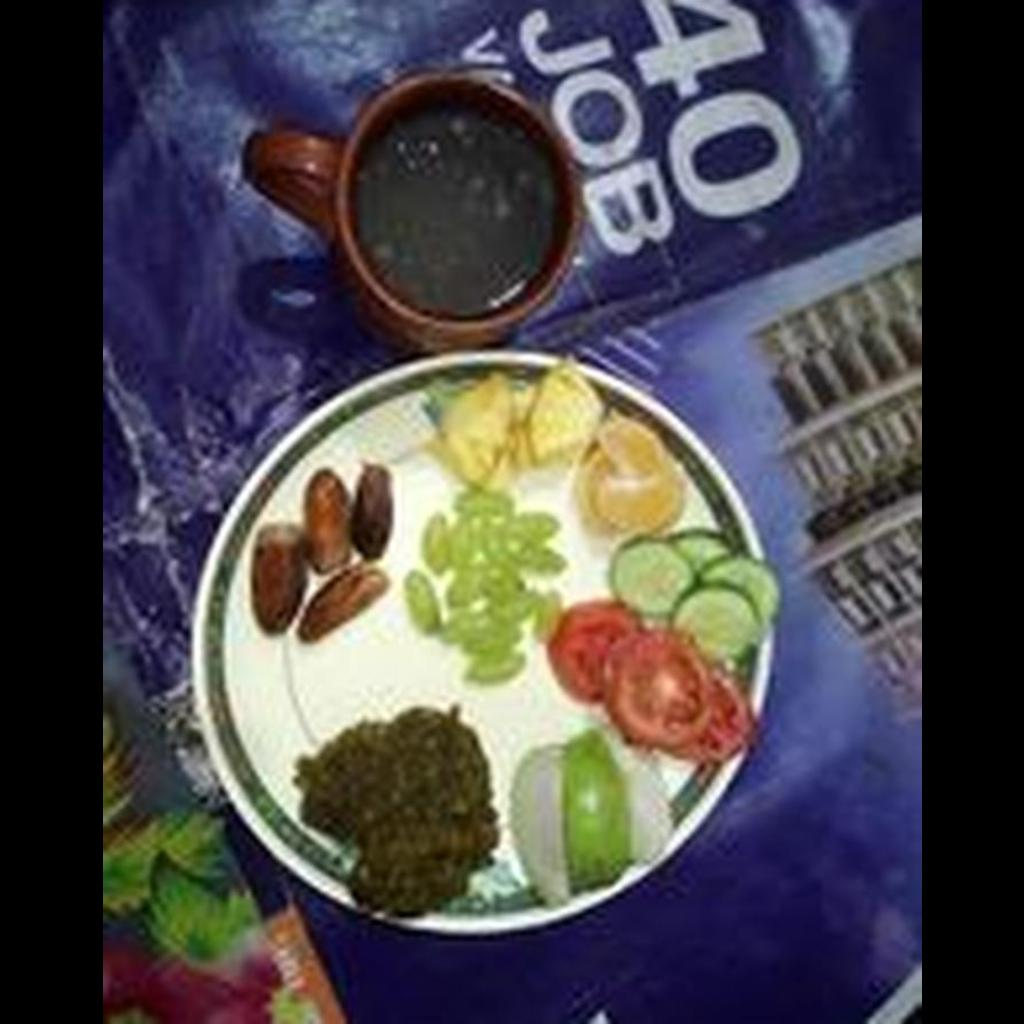chola: (294, 709, 492, 921)
cucumber: (609, 531, 778, 655)
dates: (252, 464, 394, 635)
grapes: (398, 496, 565, 683)
guava: (512, 726, 671, 907)
pineapple: (434, 363, 603, 481)
tomato: (552, 608, 747, 750)
